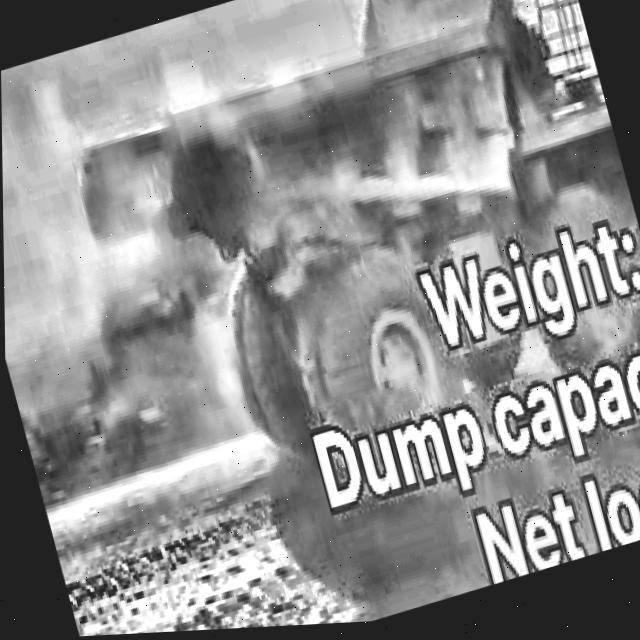dump_truck: (156, 44, 445, 455)
